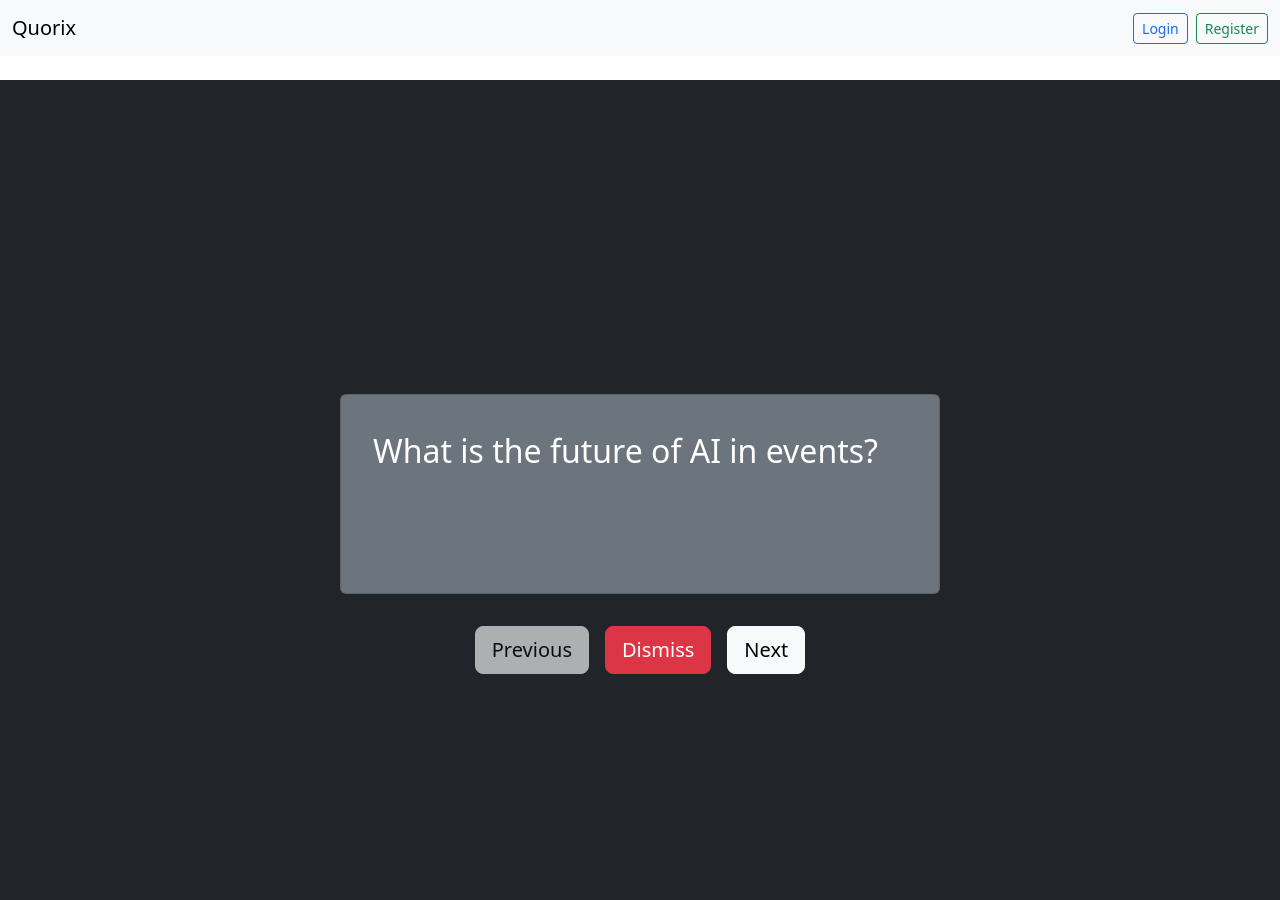
Scenario: SpeakerView › navigates to next and previous questions
Expected: the text "What is the future of AI in events?" is shown, [373,427,907,475]
Step 1. Click the button "Next" → (766, 650), box [727,626,805,674]
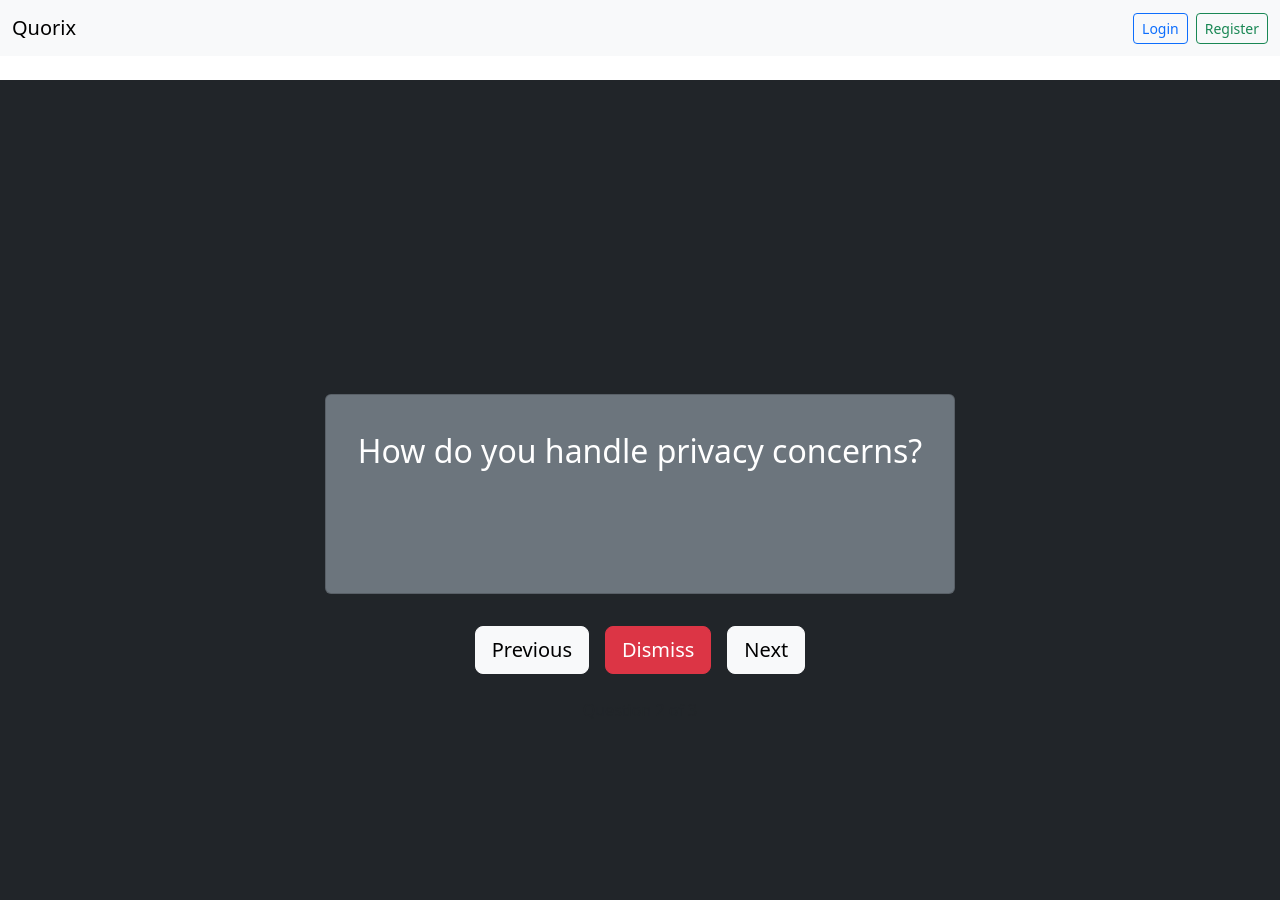
Now the text "How do you handle privacy concerns?" is shown, box [358,427,922,475]
Step 2. Click the button "Previous" → (532, 650), box [475,626,589,674]
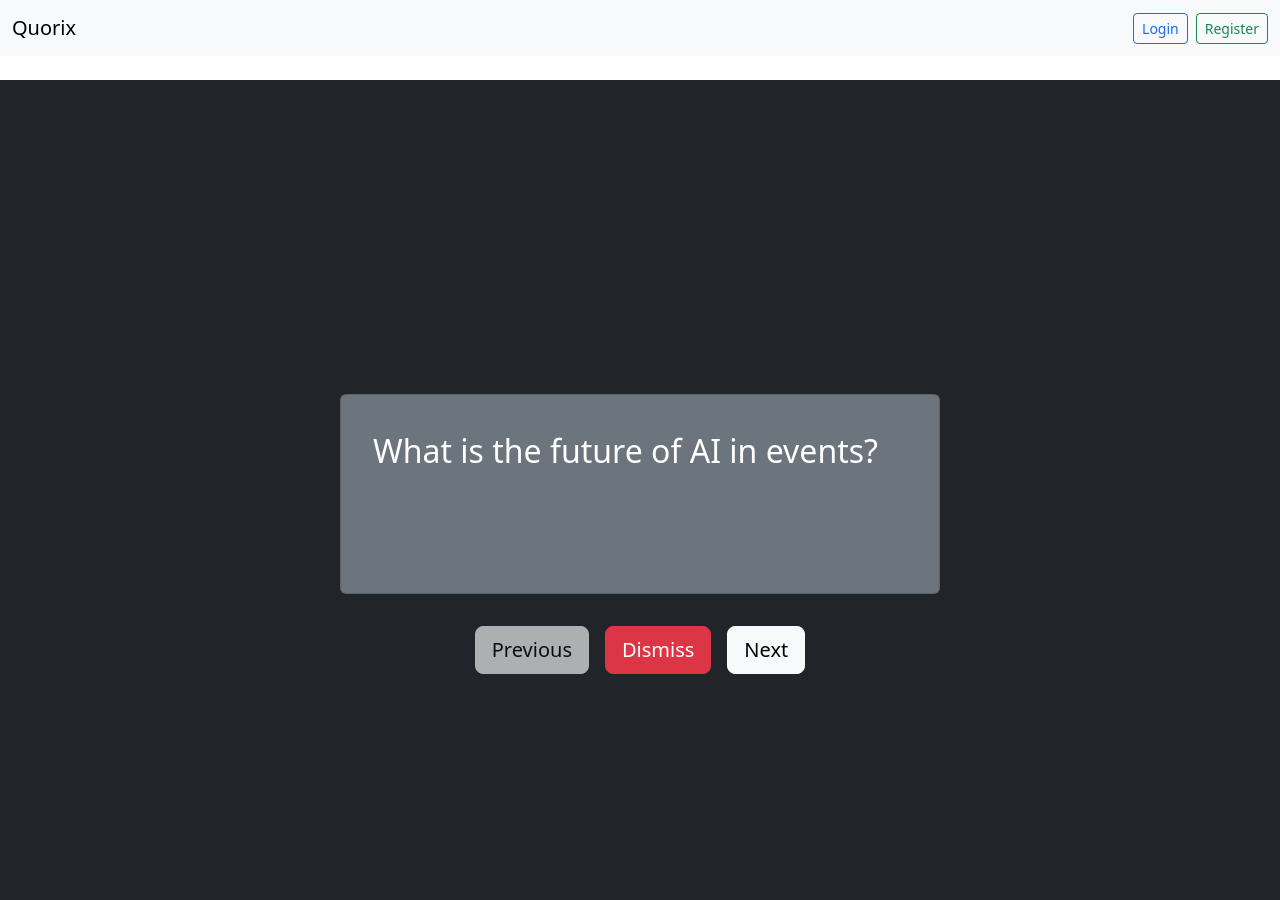
Now the text "What is the future of AI in events?" is shown, box [373,427,907,475]
